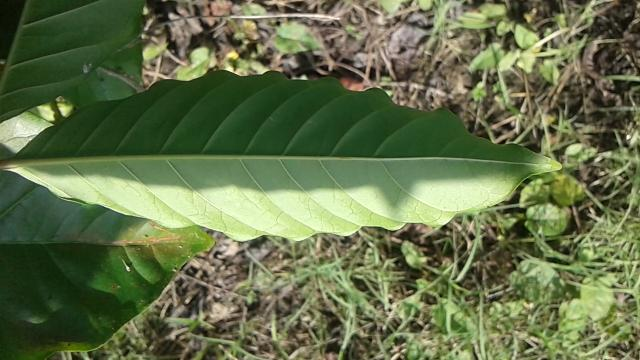healthy: (10, 72, 560, 238)
